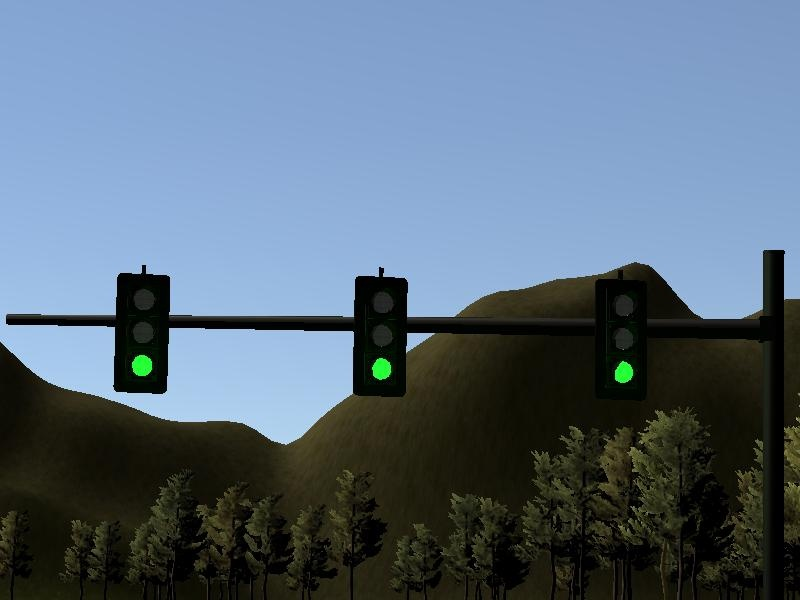green: (345, 267, 422, 404), (107, 262, 180, 397), (588, 268, 651, 393)
